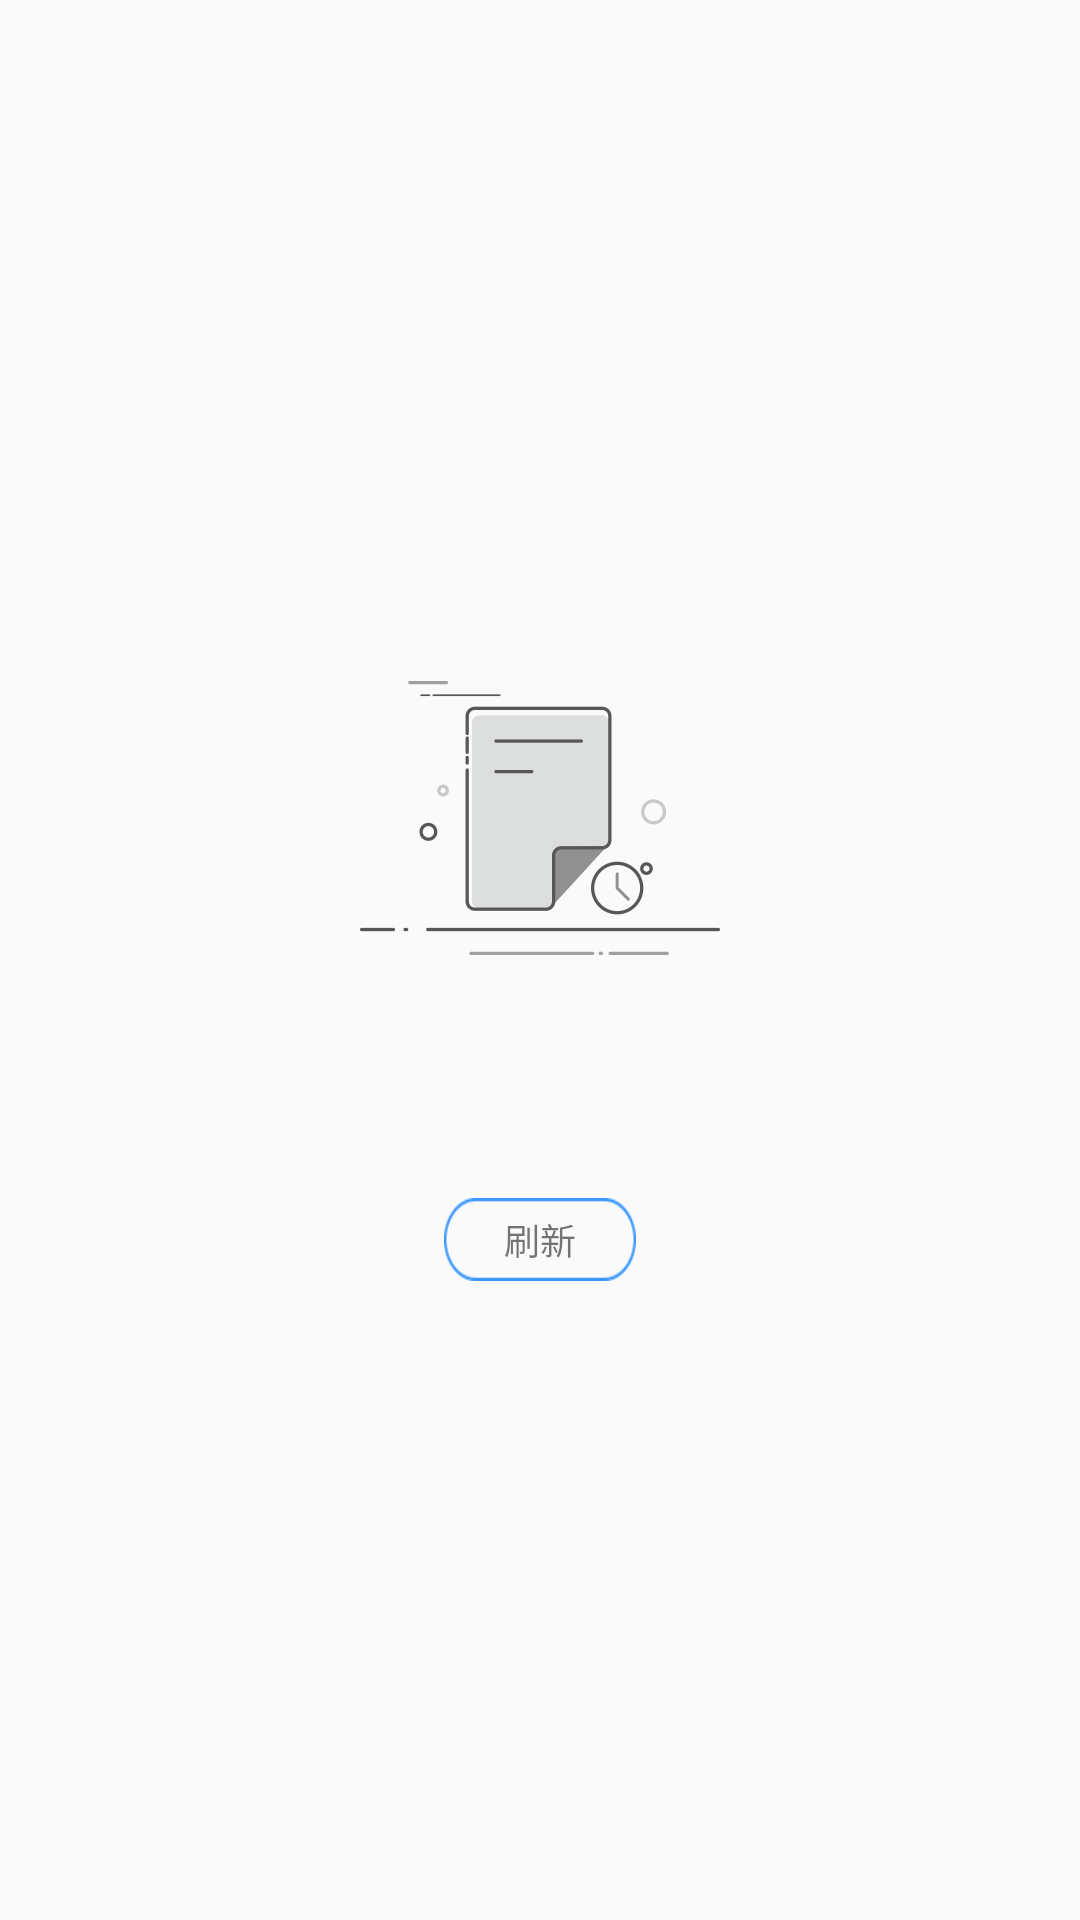

Point at icon controls on the screen. Image size 1080w x 1920h, points as (x=x, y=y).
history null: (x=540, y=818)
